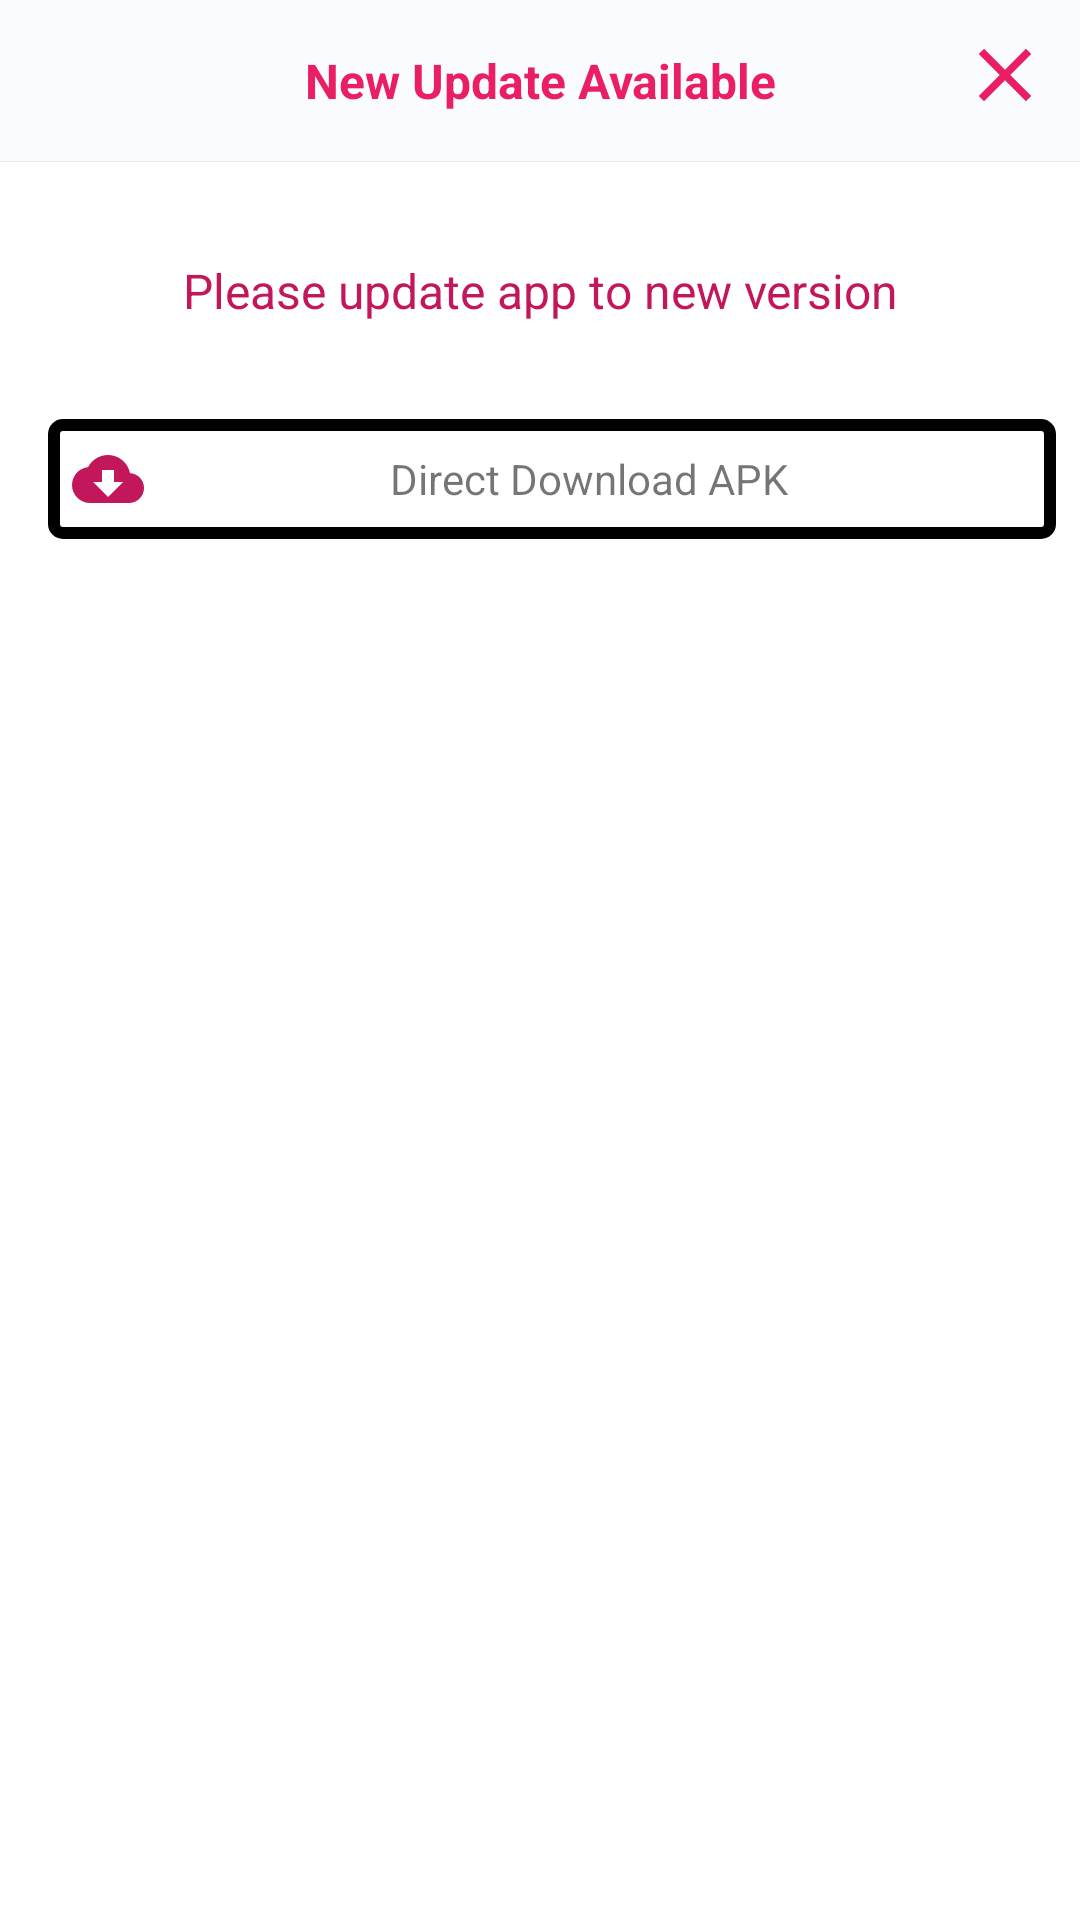

Screen size 1080×1920. Icon name, then its center in pixels as (x=x, y=y):
close: (x=1005, y=75)
